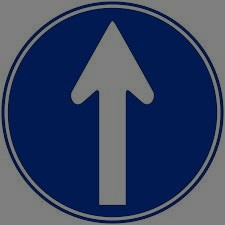Direction_sign: (1, 1, 224, 224)
